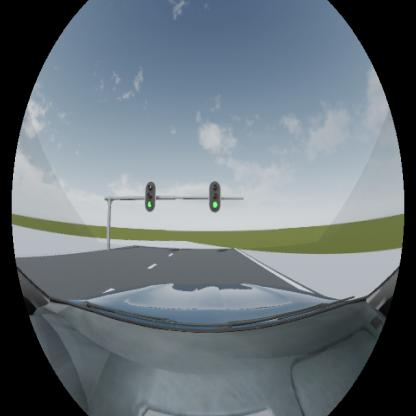Green Light: (145, 180, 156, 212), (210, 182, 220, 212)
